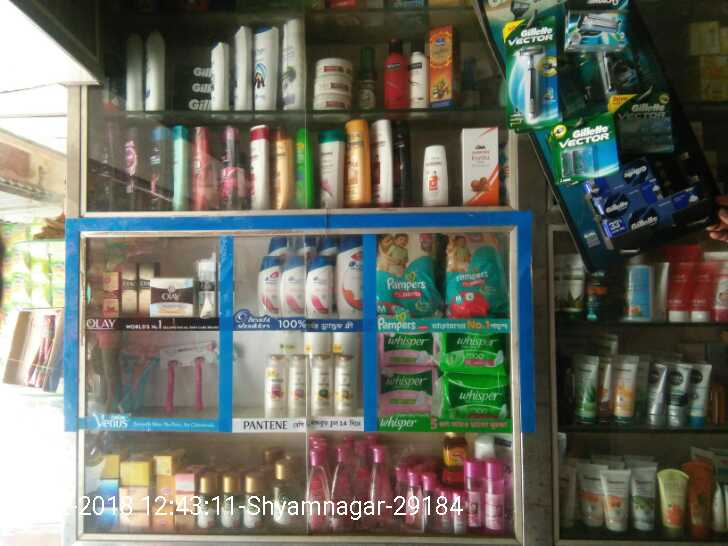gillete: (503, 27, 553, 125), (591, 201, 693, 242), (616, 100, 670, 157), (559, 123, 607, 183)
venus: (110, 345, 157, 407), (186, 339, 214, 417), (157, 345, 186, 417)
